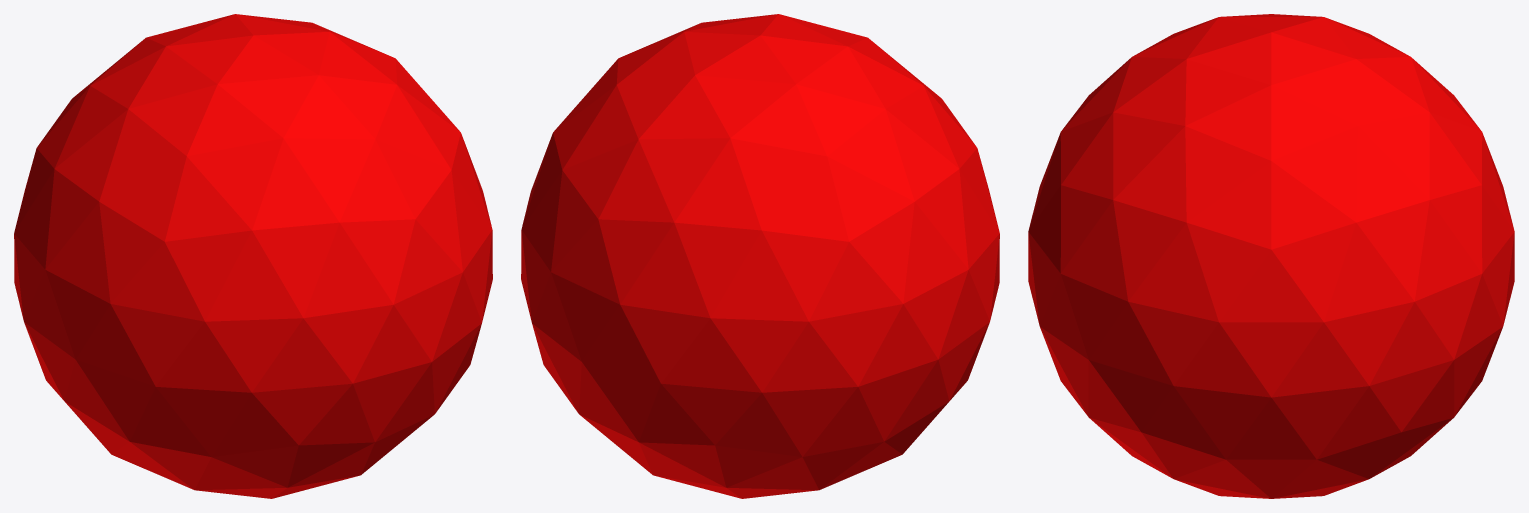
File: EARTH.FBX
3 renders of one model, left to right at view 1: azimuth 30°, elevation 25°; view 2: azimuth 150°, elevation 25°; view 3: azimuth 270°, elevation 25°, orthographic.
Visible parts, largest first — view 1: GeoSphere001; view 2: GeoSphere001; view 3: GeoSphere001.
Part boxes in pixels (<box>): GeoSphere001: <box>14,14,492,498</box>; GeoSphere001: <box>521,14,999,498</box>; GeoSphere001: <box>1028,14,1514,498</box>.
Size of the model in its own units: 84.76 by 86.01 by 84.55.
